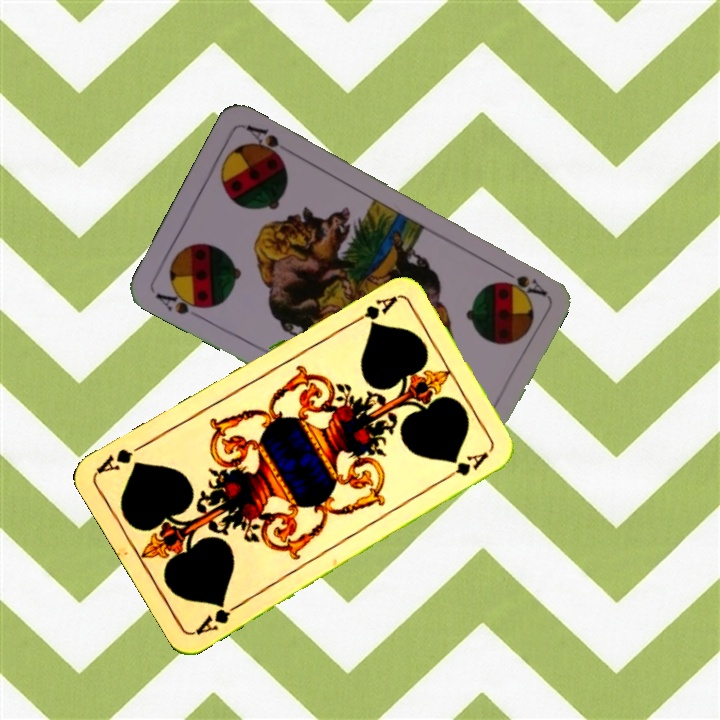GA: (191, 597, 245, 638), (345, 291, 400, 328)
SA: (494, 263, 549, 299), (151, 285, 211, 317)
